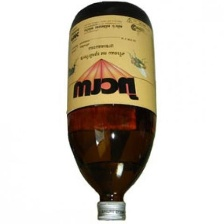insecticide: (63, 0, 159, 224)
